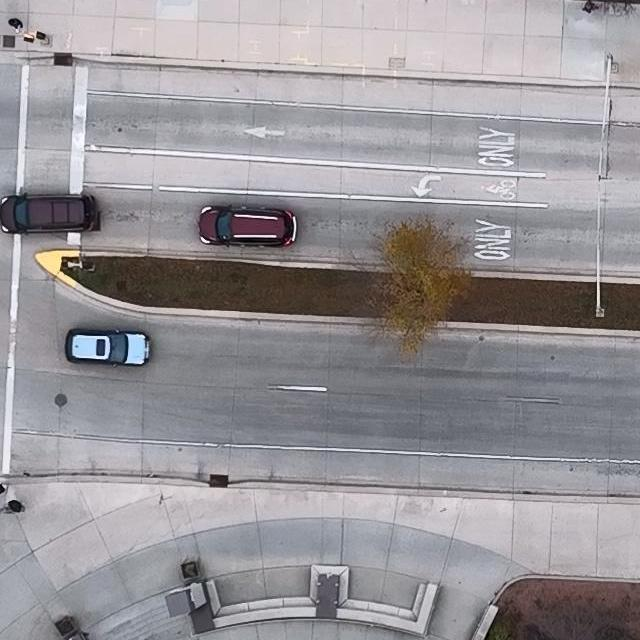car: (197, 203, 296, 248), (0, 192, 96, 236), (64, 327, 150, 367)
